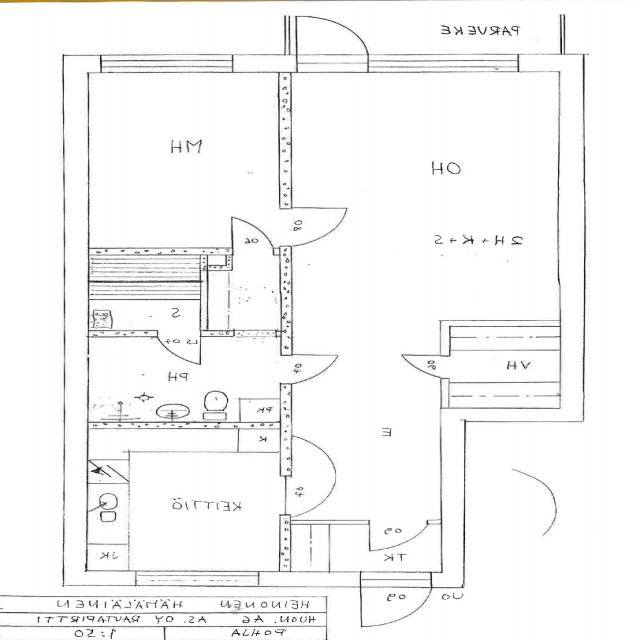door: (296, 8, 369, 71), (361, 571, 431, 630), (280, 476, 352, 515), (280, 209, 349, 246), (370, 520, 428, 561), (280, 355, 336, 384), (158, 330, 200, 363), (232, 222, 272, 255), (406, 356, 449, 379)
